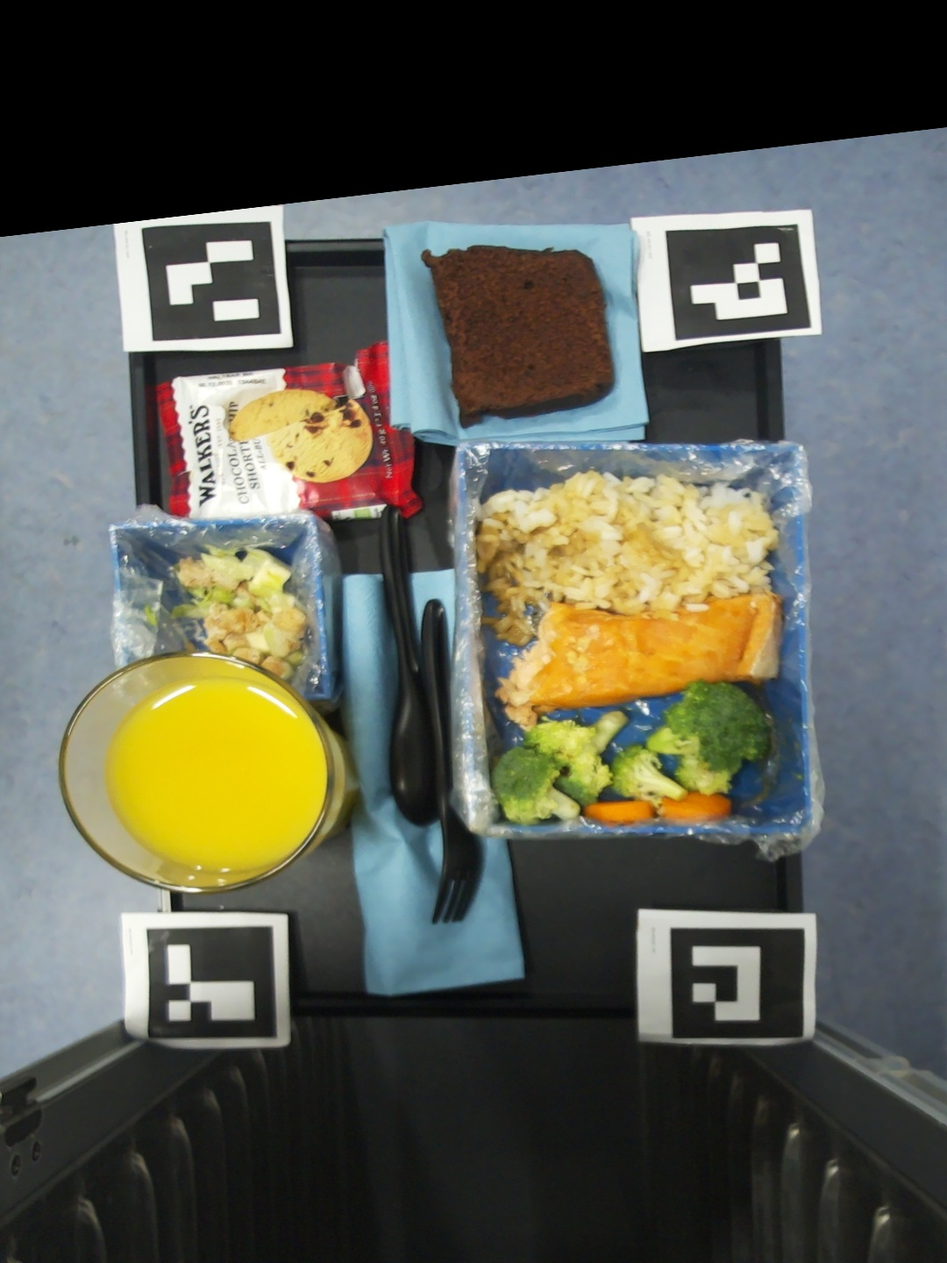broccoli: (490, 678, 768, 825)
brownie: (422, 246, 613, 428)
carrots: (662, 790, 731, 818), (584, 801, 654, 822)
cookie: (156, 340, 423, 521)
fish_salmon: (494, 590, 782, 731)
orange_juice_bottle: (60, 655, 358, 893)
rice: (476, 470, 780, 647)
side_salad: (169, 544, 307, 679), (144, 604, 157, 626), (185, 643, 195, 650)
